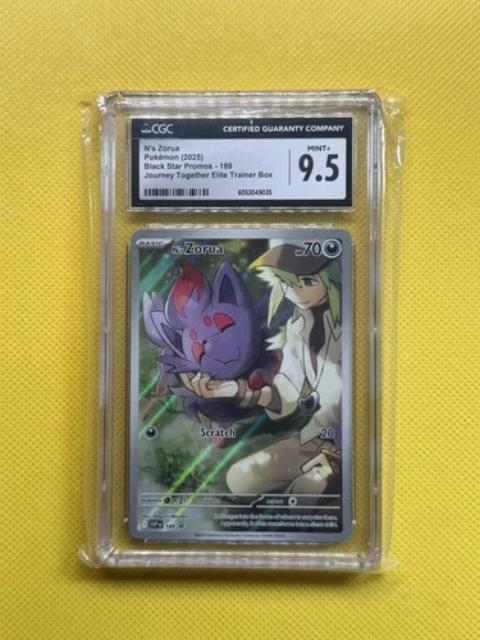Card: (125, 223, 356, 546)
Name: (168, 238, 230, 259)
